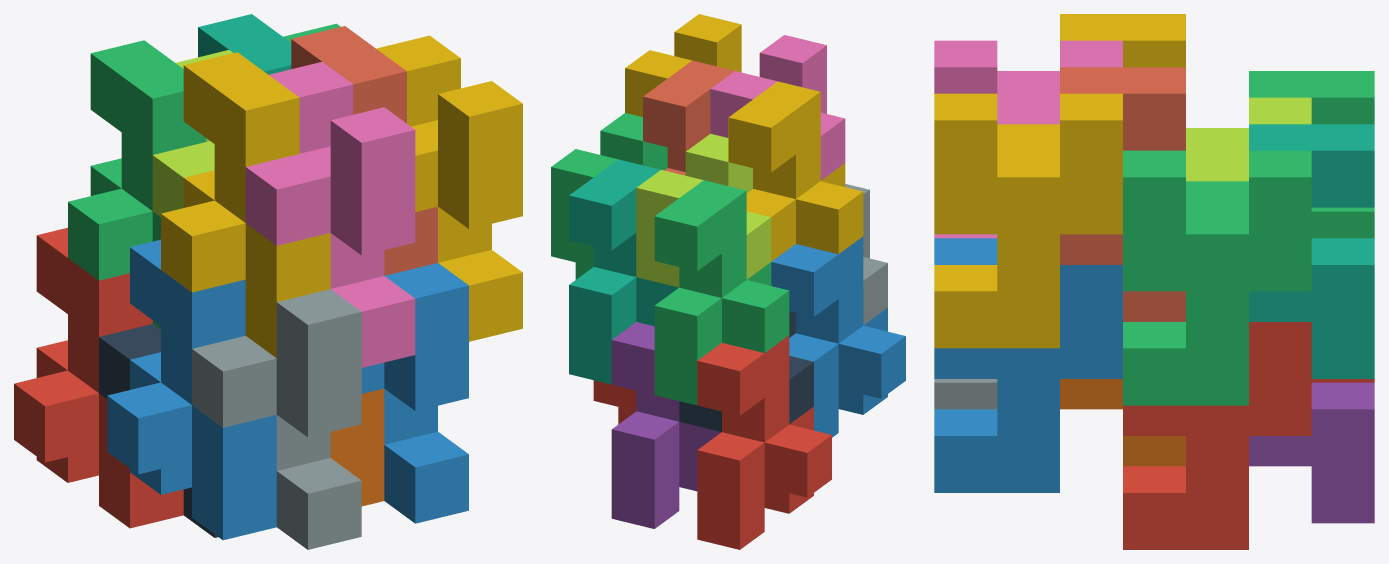
Rendered from tiling.obj.
The picture shows the model from 3 angles, left to right: view 1: azimuth 30°, elevation 25°; view 2: azimuth 150°, elevation 25°; view 3: azimuth 270°, elevation 25°; orthographic projection. The views are drawn at different scales.
Parts seen in each view (by area): view 1: copy_2_domain_4, copy_1_domain_2, copy_2_domain_2, copy_1_domain_4, copy_2_domain_8, copy_1_domain_1, copy_2_domain_6, copy_1_domain_3, copy_1_domain_8, copy_1_domain_6, copy_1_domain_7, copy_2_domain_1 (+1 smaller); view 2: copy_1_domain_1, copy_1_domain_3, copy_1_domain_2, copy_1_domain_4, copy_1_domain_7, copy_1_domain_5, copy_2_domain_3, copy_2_domain_4, copy_2_domain_7, copy_1_domain_8, copy_2_domain_8, copy_2_domain_1 (+2 smaller); view 3: copy_2_domain_8, copy_2_domain_7, copy_2_domain_6, copy_2_domain_5, copy_1_domain_7, copy_1_domain_5, copy_1_domain_8, copy_2_domain_4, copy_1_domain_3, copy_2_domain_3, copy_1_domain_4, copy_1_domain_6 (+1 smaller).
Part boxes in pixels (x1,y1,x2,y2): copy_2_domain_4: [245, 62, 415, 367]; copy_1_domain_2: [107, 239, 276, 540]; copy_2_domain_2: [192, 289, 361, 549]; copy_1_domain_4: [161, 52, 330, 357]; copy_2_domain_8: [376, 35, 522, 341]; copy_1_domain_1: [14, 227, 183, 528]; copy_2_domain_6: [361, 263, 468, 523]; copy_1_domain_3: [68, 40, 206, 329]; copy_1_domain_8: [291, 26, 437, 275]; copy_1_domain_6: [330, 388, 384, 506]; copy_1_domain_7: [198, 14, 291, 74]; copy_2_domain_1: [99, 324, 218, 537]; copy_1_domain_1: [697, 335, 831, 549]; copy_1_domain_3: [654, 180, 789, 405]; copy_1_domain_2: [771, 236, 905, 437]; copy_1_domain_4: [728, 81, 863, 261]; copy_1_domain_7: [569, 159, 678, 384]; copy_1_domain_5: [611, 322, 721, 528]; copy_2_domain_3: [636, 133, 771, 287]; copy_2_domain_4: [710, 35, 845, 180]; copy_2_domain_7: [551, 113, 667, 279]; copy_1_domain_8: [643, 60, 734, 175]; copy_2_domain_8: [625, 14, 741, 116]; copy_2_domain_1: [679, 311, 813, 431]; copy_2_domain_8: [934, 93, 1122, 348]; copy_2_domain_7: [1123, 150, 1311, 405]; copy_2_domain_6: [934, 238, 1122, 492]; copy_2_domain_5: [1123, 322, 1311, 549]; copy_1_domain_7: [1249, 124, 1374, 378]; copy_1_domain_5: [1249, 382, 1374, 523]; copy_1_domain_8: [1060, 67, 1185, 321]; copy_2_domain_4: [934, 40, 1122, 238]; copy_1_domain_3: [1249, 71, 1374, 238]; copy_2_domain_3: [1186, 97, 1311, 181]; copy_1_domain_4: [1060, 14, 1185, 67]; copy_1_domain_6: [1060, 379, 1185, 466].
Size of the model in its own units: 6 by 8 by 7.
